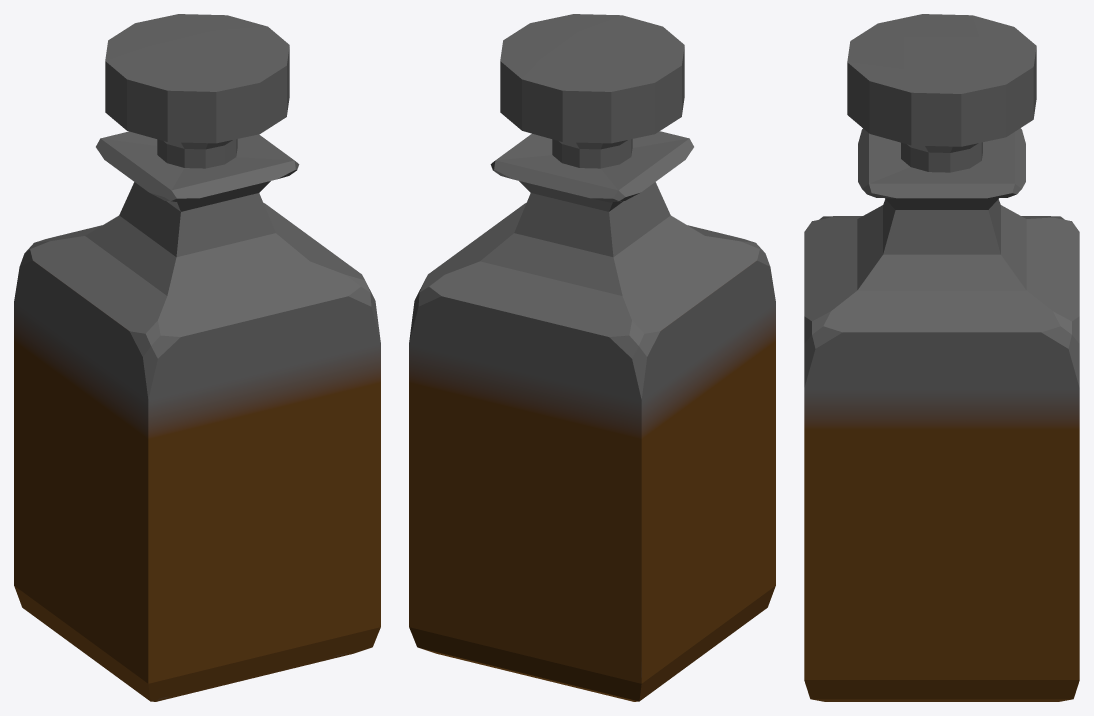
Rendered from decanter3.fbx.
The picture shows the model from 3 angles, left to right: view 1: azimuth 30°, elevation 25°; view 2: azimuth 150°, elevation 25°; view 3: azimuth 270°, elevation 25°; orthographic projection. The views are drawn at different scales.
Visible parts, largest first — view 1: decanter_baked; view 2: decanter_baked; view 3: decanter_baked.
Part boxes in pixels (x1=…): decanter_baked: x1=14, y1=14, x2=380, y2=701; decanter_baked: x1=409, y1=14, x2=775, y2=701; decanter_baked: x1=804, y1=14, x2=1079, y2=701.
Size of the model in its own units: 14.72 by 35.31 by 14.72.
1 material, 1 textured.
